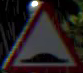Speed Breaker ahead: (3, 1, 80, 69)
